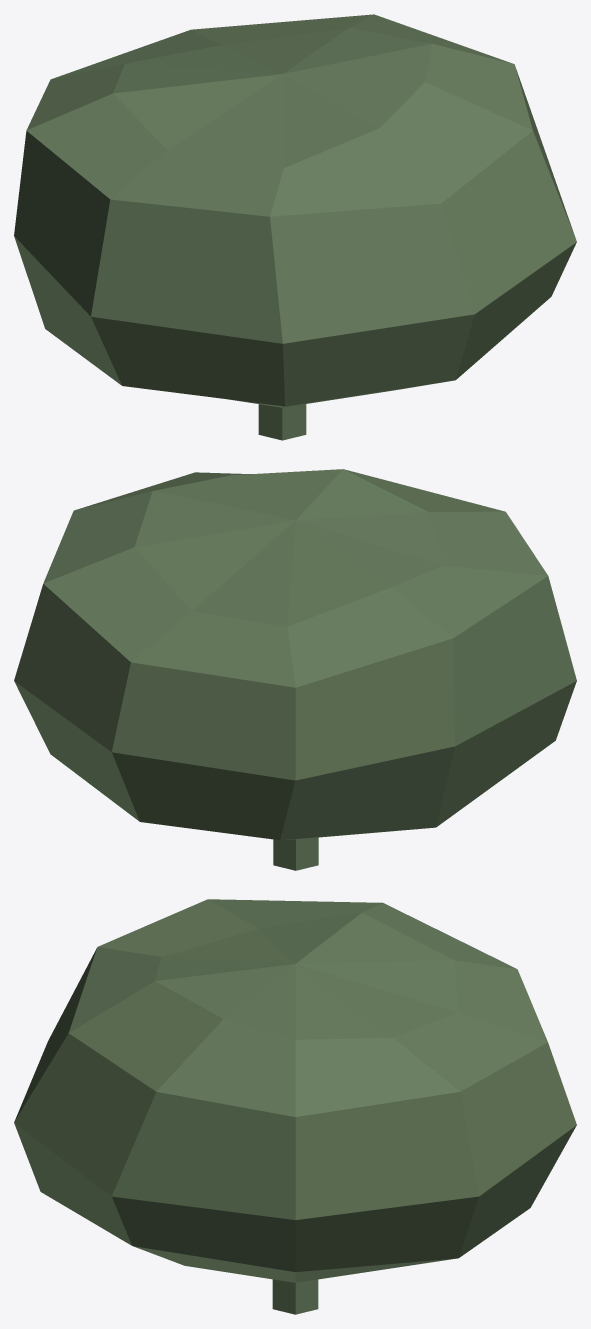
File: bush.fbx
The picture shows the model from 3 angles, top to bottom: view 1: azimuth 30°, elevation 25°; view 2: azimuth 150°, elevation 25°; view 3: azimuth 270°, elevation 25°; orthographic projection. The views are drawn at different scales.
Visible parts, largest first — view 1: bush; view 2: bush; view 3: bush.
Boxes of the visible parts, left/top/right/bottom form: bush: left=14, top=14, right=576, bottom=440; bush: left=14, top=469, right=576, bottom=870; bush: left=14, top=899, right=576, bottom=1314.
Bounding box in the file's own units: 82.81 × 57.11 × 85.78.
